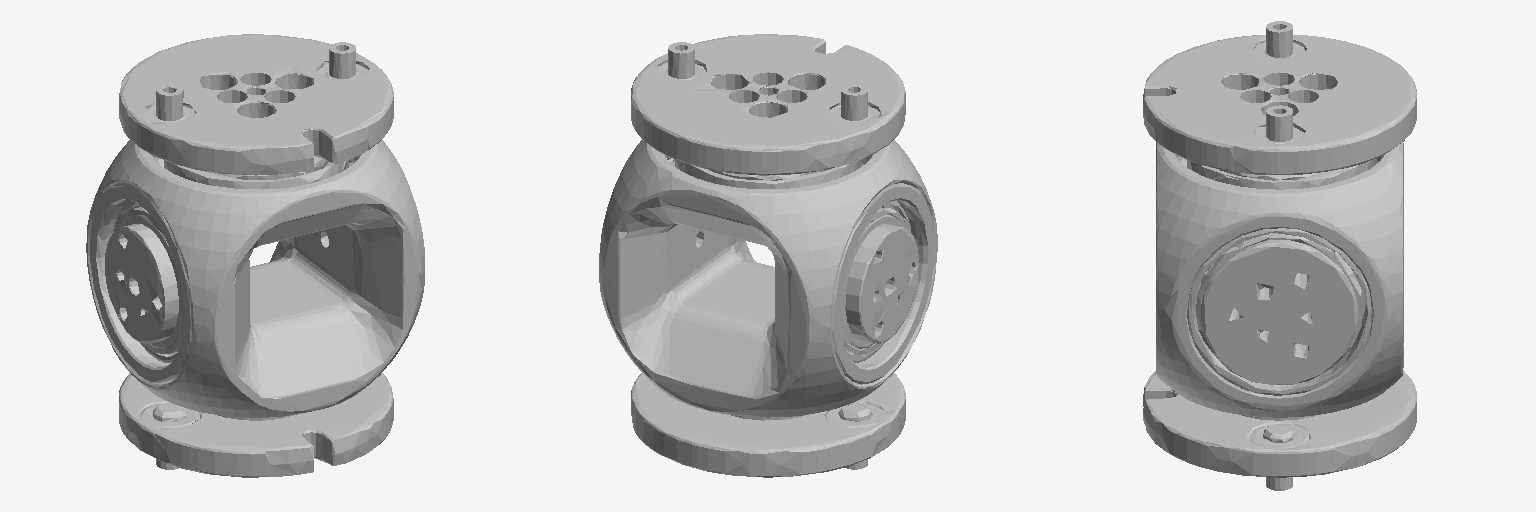
Rendered from wristPitchLeft.obj.
The picture shows the model from 3 angles: view 1: azimuth 30°, elevation 25°; view 2: azimuth 150°, elevation 25°; view 3: azimuth 270°, elevation 25°; orthographic projection.
Visible parts, largest first — view 1: wristPitchLeft; view 2: wristPitchLeft; view 3: wristPitchLeft.
Part boxes in pixels (left/top/right/bottom): wristPitchLeft: left=86, top=34, right=424, bottom=477; wristPitchLeft: left=599, top=34, right=937, bottom=477; wristPitchLeft: left=1143, top=21, right=1416, bottom=490.
Size of the model in its own units: 0.041 by 0.06 by 0.0399.